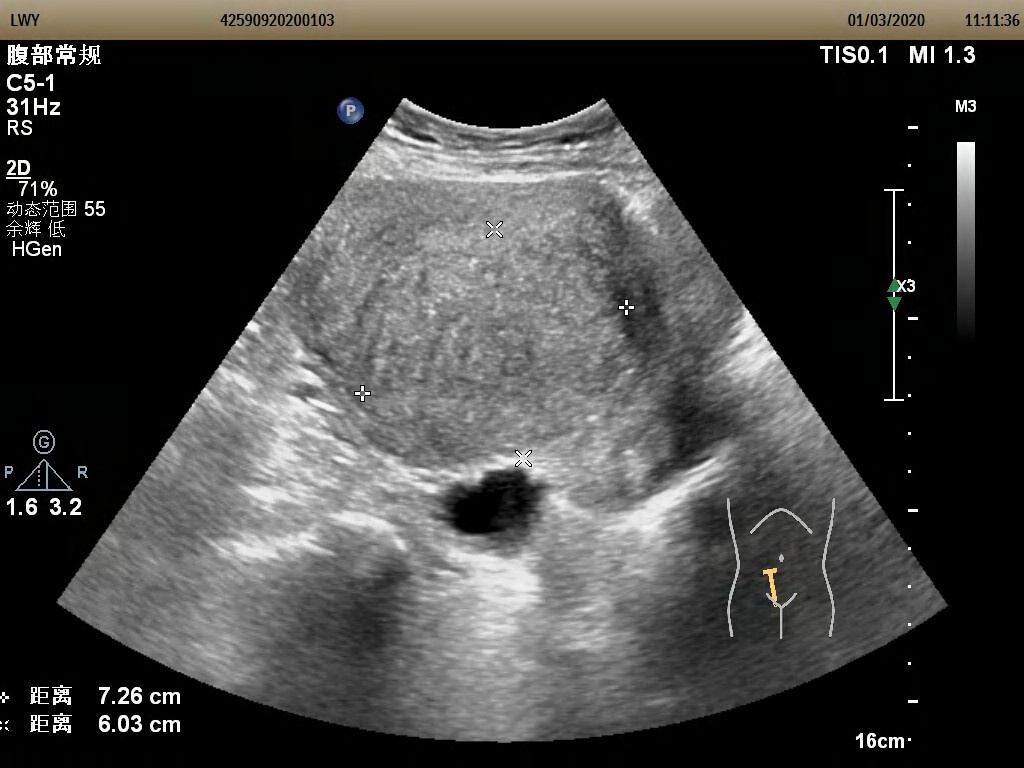肌瘤: (351, 209, 624, 434)
